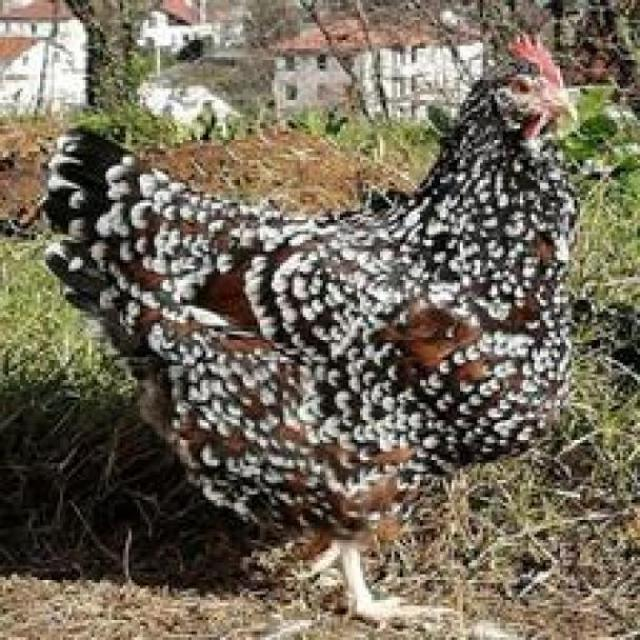Chicken: (41, 29, 624, 633)
